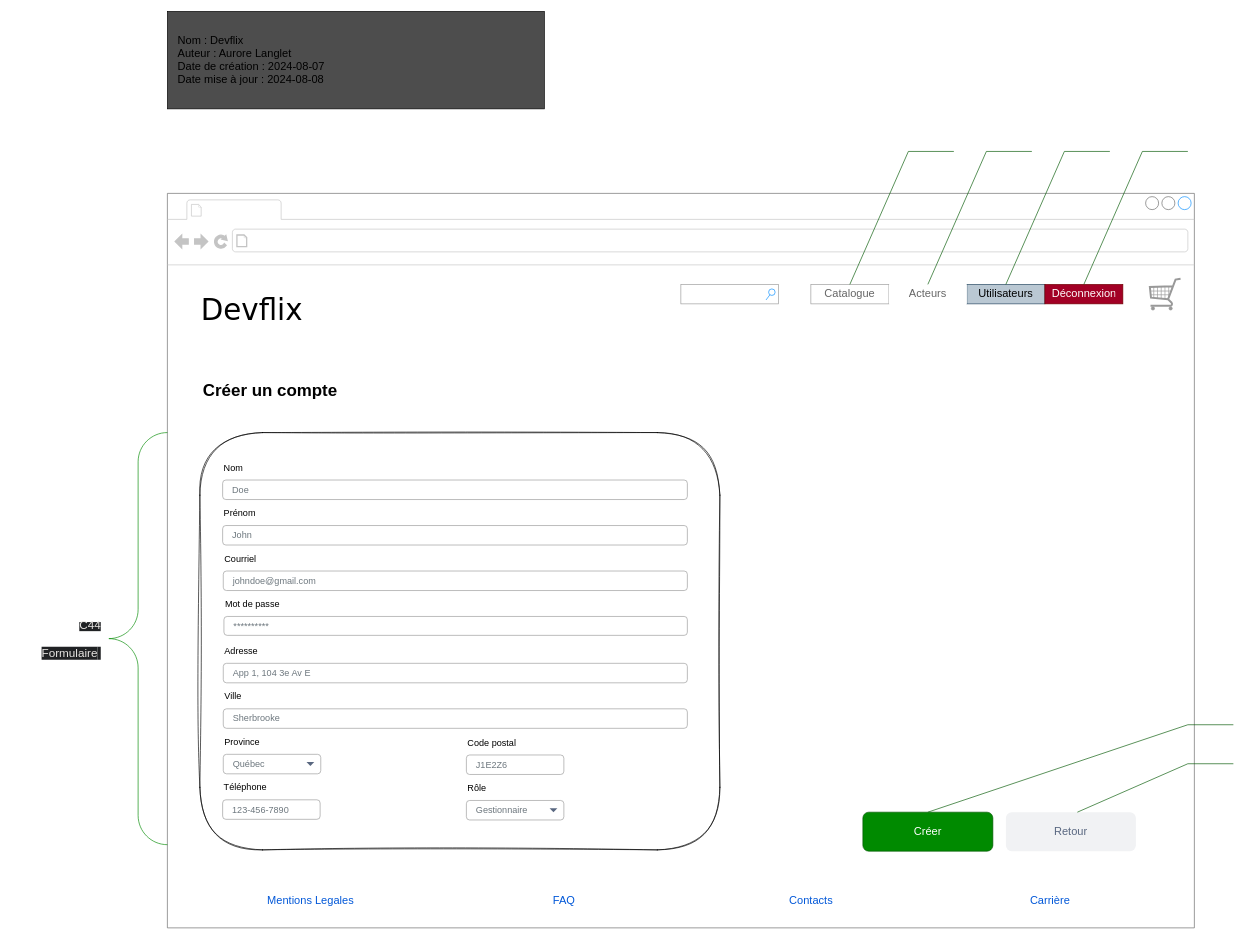
Image size: 1245x939. Some labels were removed from this diagram. Here are the shapes that lost their labels. From the top down, the centre of each, then its label:
At point 242,209: "Créer compte".
At point 332,240: "https://www.devflix.com/creercompte".
At point 729,294: "Rechercher".
